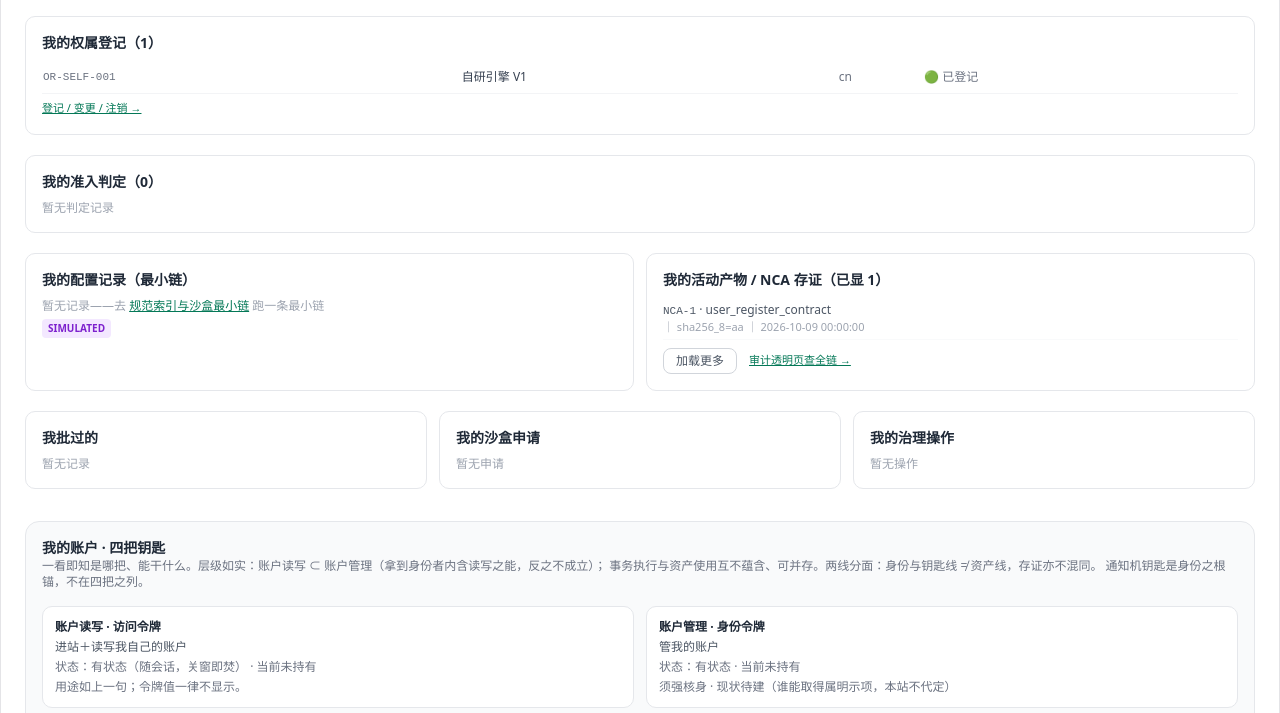
Test: 用户控制台 P1（me.tsx 扩充面） › 活动产物分页：点「加载更多」追加 /me/nca 明细并显示总数
(page scrolled)
Expected: the element with test id "me-nca" is shown, [646, 252, 1255, 390]
Expected: the element with test id "me-nca" does not show "NCA-2"
Click the button with test id "me-nca-more". click: x=700, y=360
box: [663, 348, 737, 374]
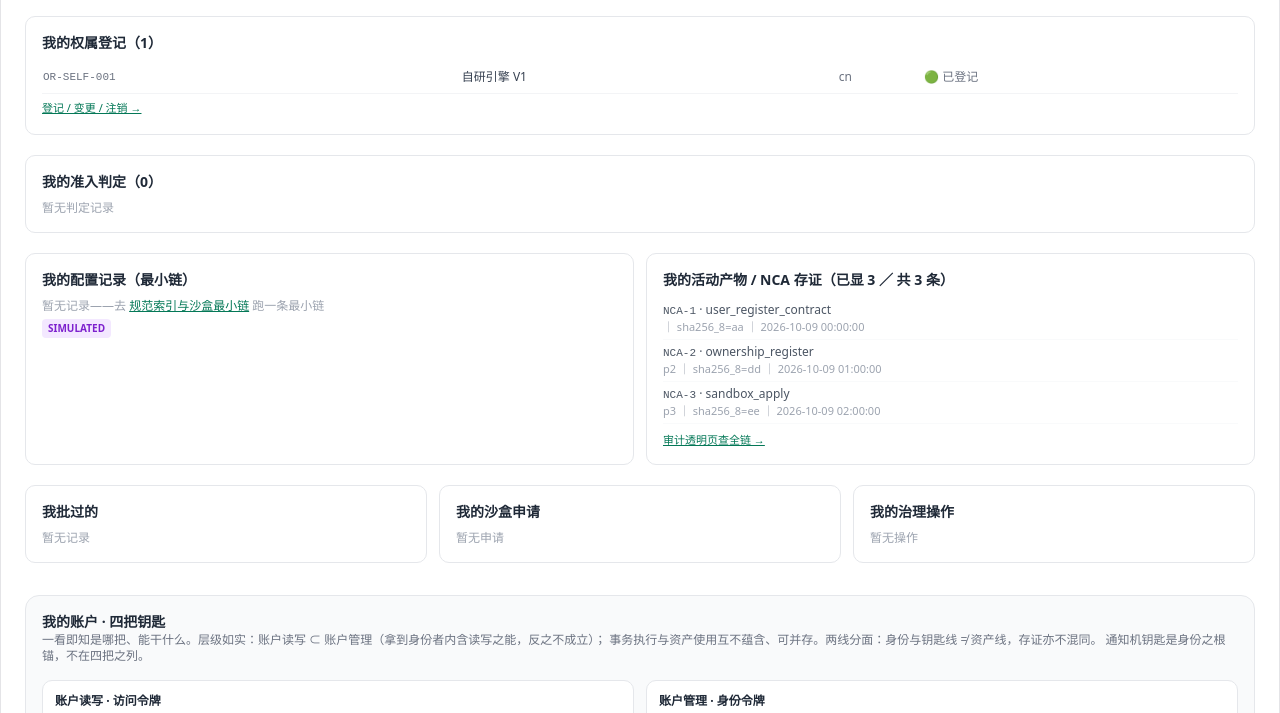
Expected: the element with test id "me-nca" shows "NCA-2", [663, 346, 696, 358]
Expected: the element with test id "me-nca" shows "NCA-3", [663, 388, 696, 400]
Expected: the element with test id "me-nca" shows "共 3 条", [875, 270, 940, 288]
